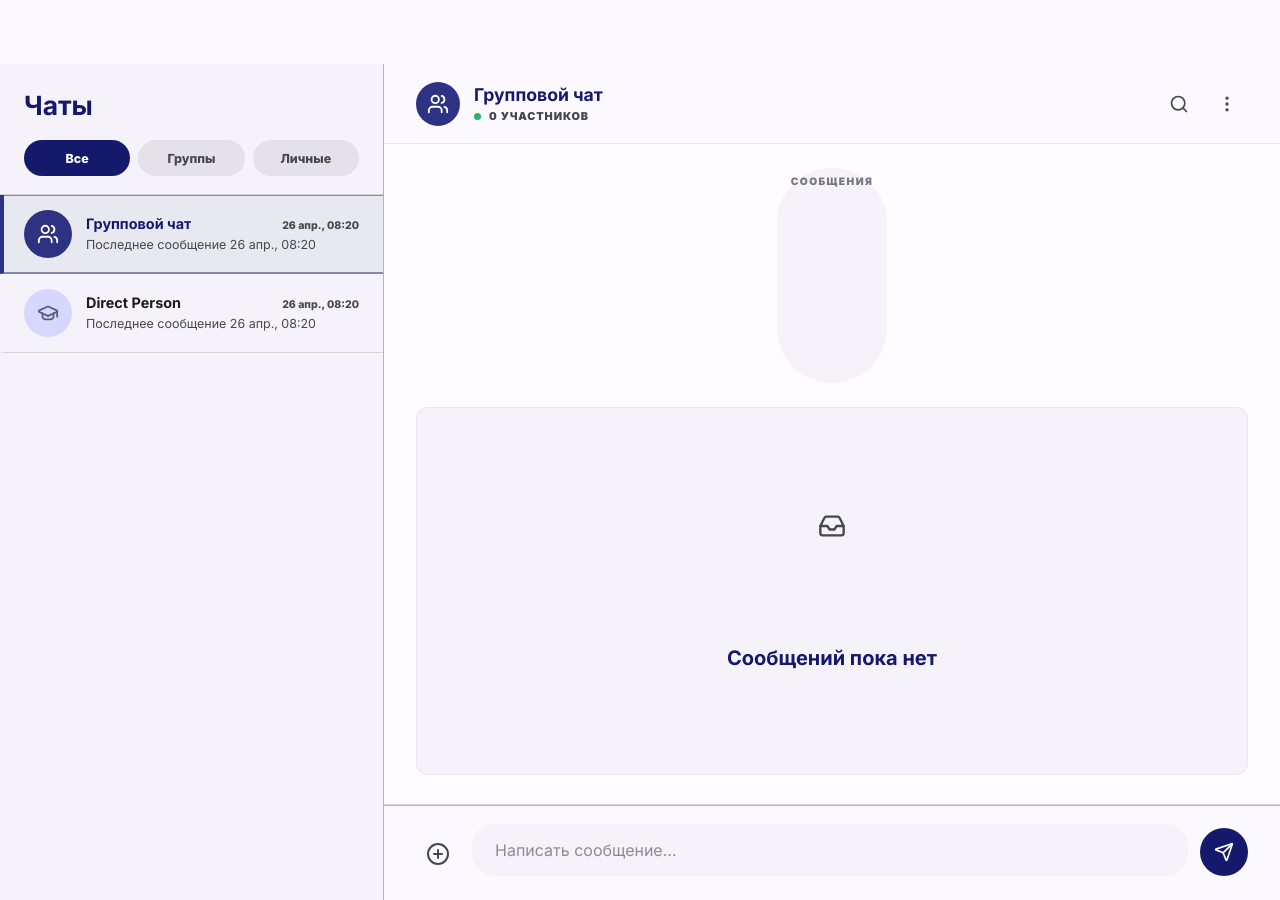
ChatsPage › switches chat filters through backend chatType queries
What coordinates should you click on to do the following:
click the button with class "chat-filter" showing "Личные"
I would click on:
 (306, 158)
Its box is [253,140,359,176].
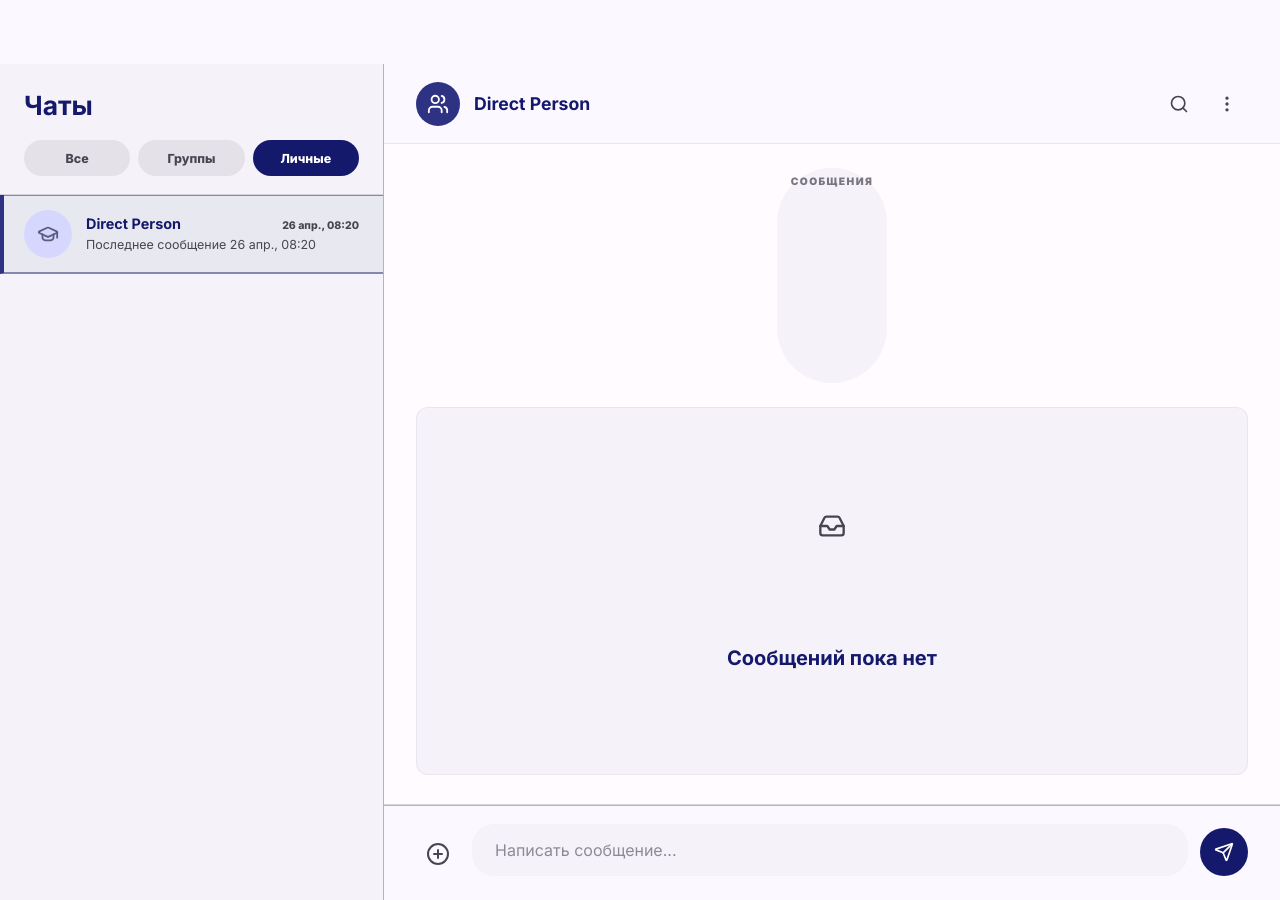
Expected: the text "Direct Person" is shown, [86,215,181,232]
Result: the text "Групповой чат" is gone
What coordinates should you click on to do the following:
click the button with class "chat-filter" showing "Группы"
I would click on:
 (191, 158)
Its box is [138,140,245,176].
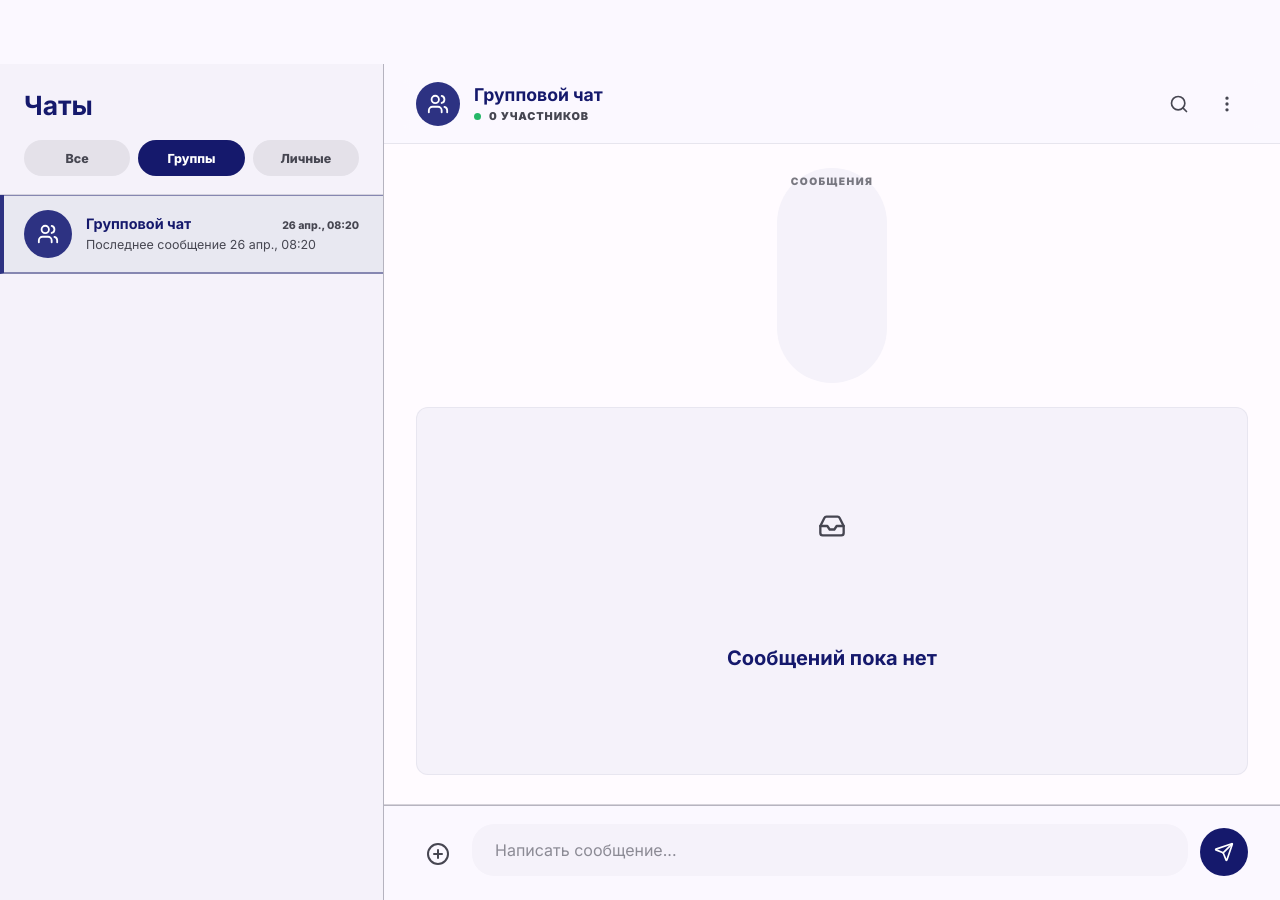
Result: the text "Групповой чат" is shown at [86,215,191,232]
Result: the text "Direct Person" is gone
